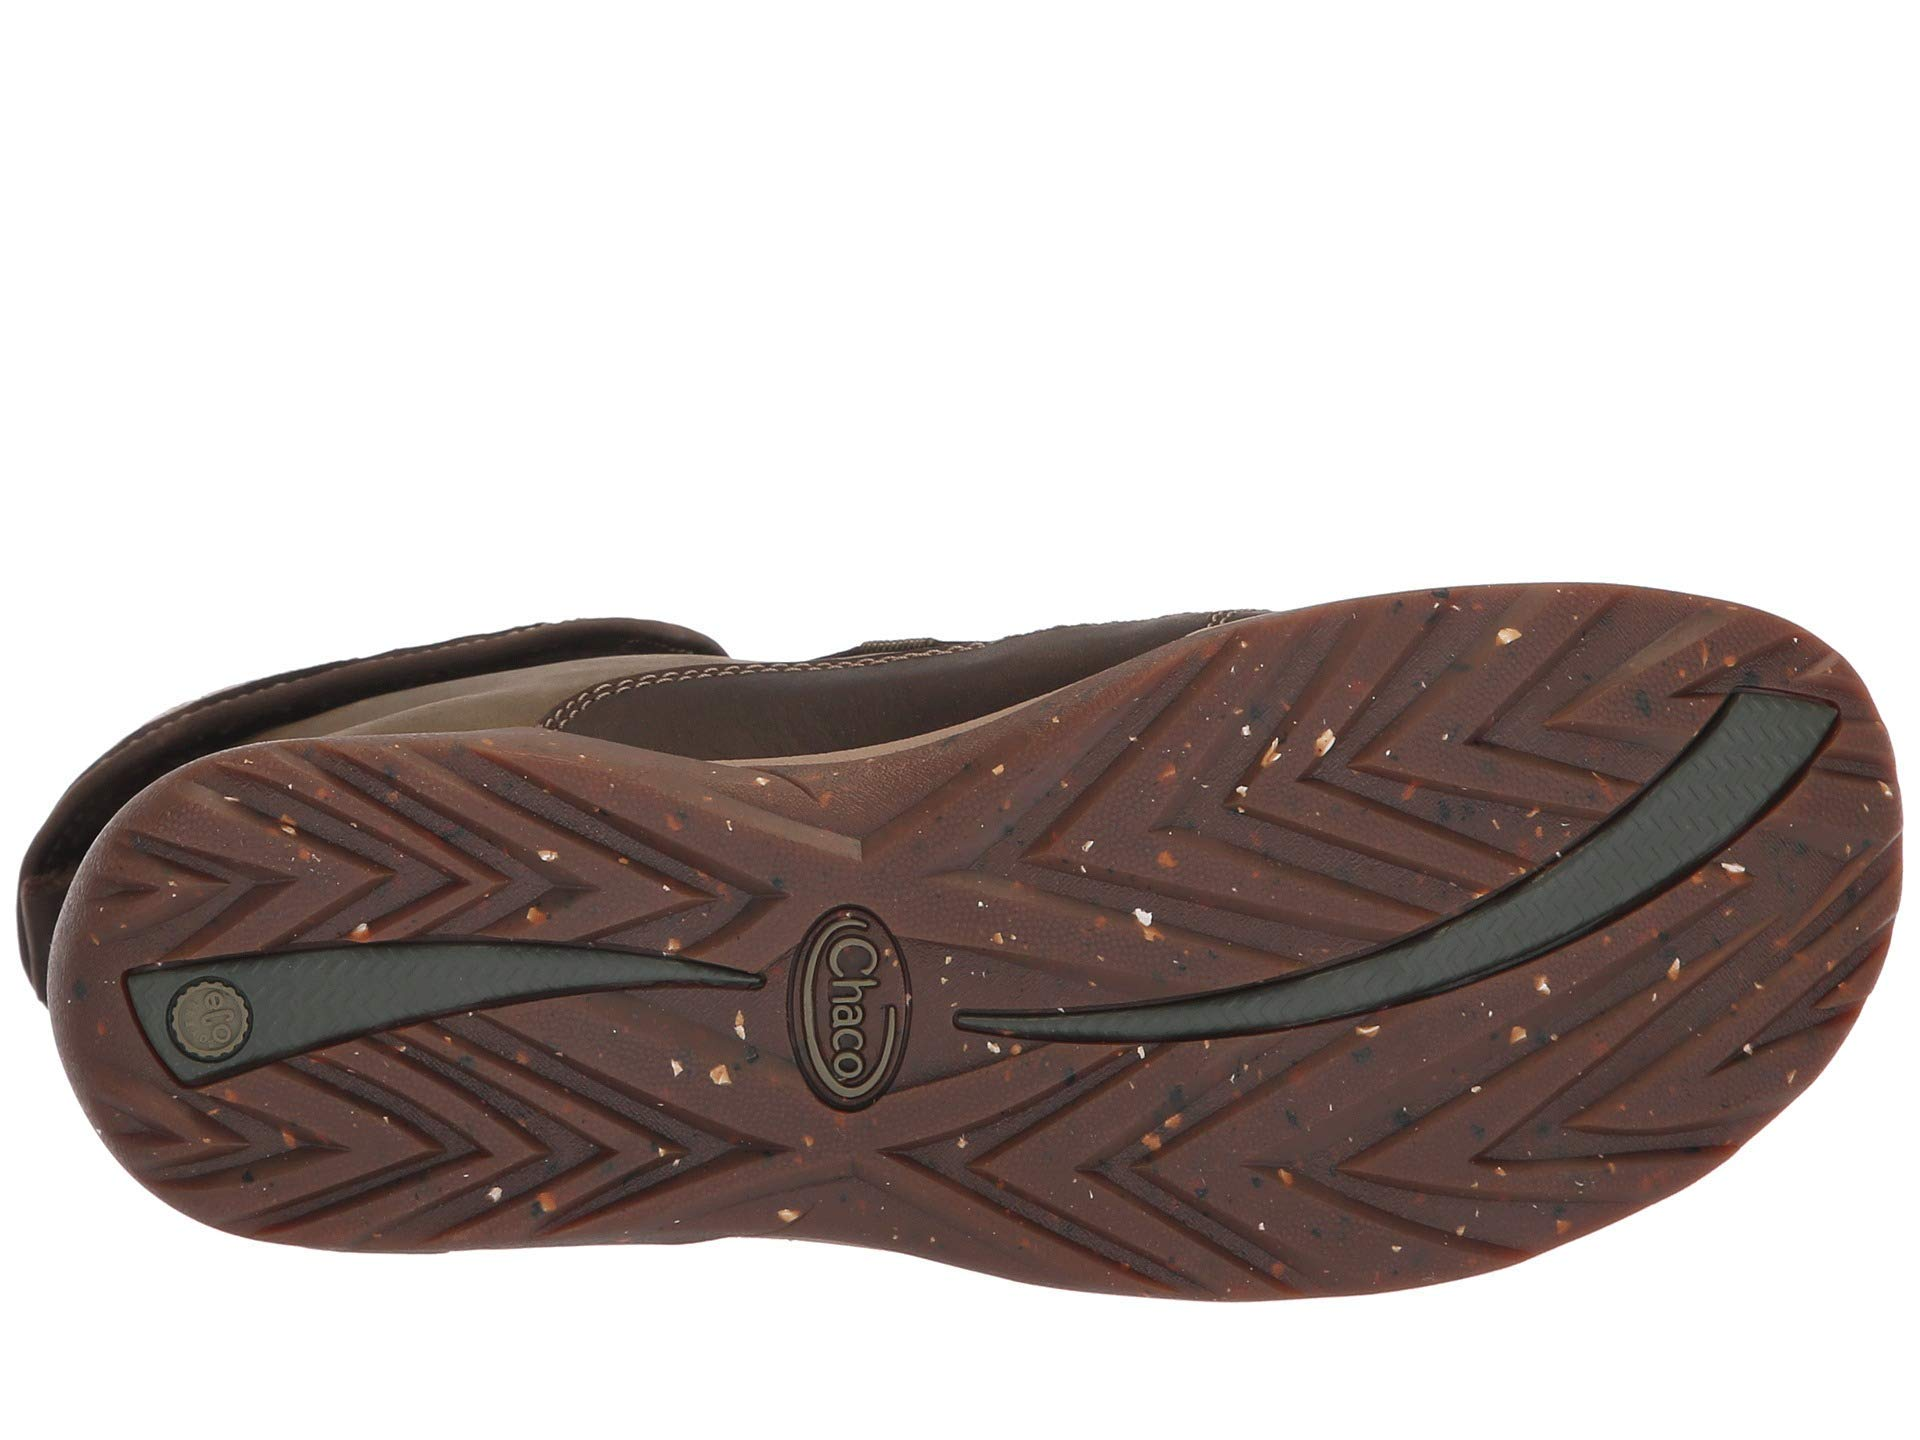chevron: (1017, 1047, 1677, 1219), (1022, 669, 1463, 911)
circle: (783, 864, 915, 1144), (153, 967, 272, 1063)
text: (783, 864, 915, 1144), (153, 967, 272, 1063)
